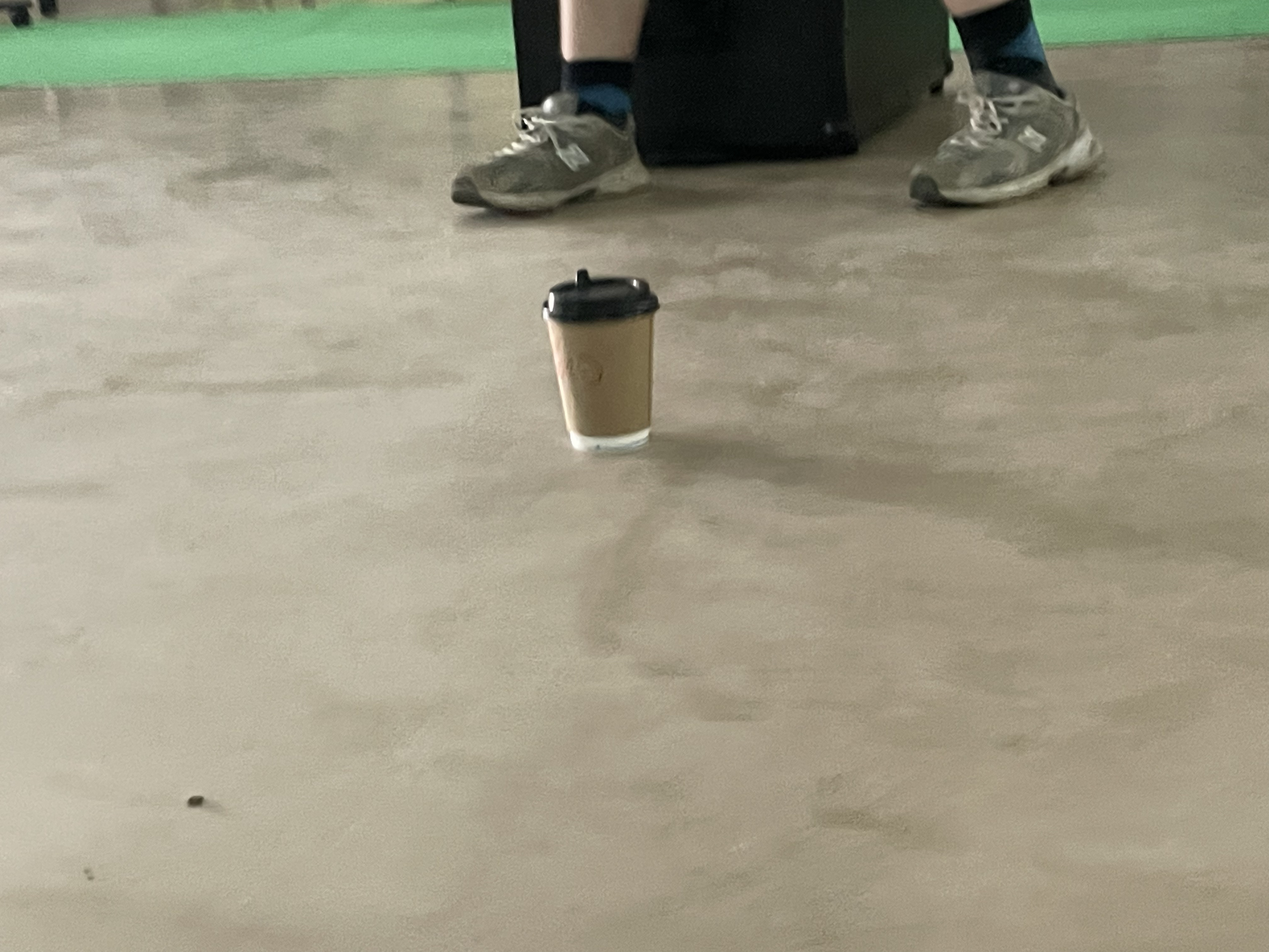cup: (541, 269, 660, 454)
